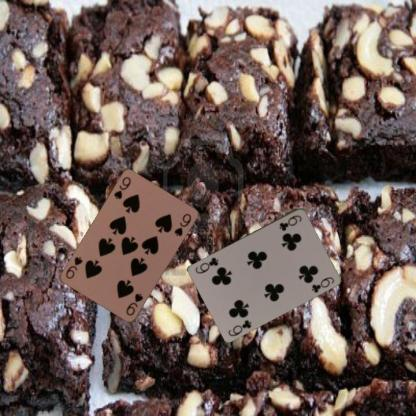6c: (226, 318, 253, 338), (277, 212, 303, 232)
9s: (124, 290, 145, 318), (111, 174, 132, 200)
